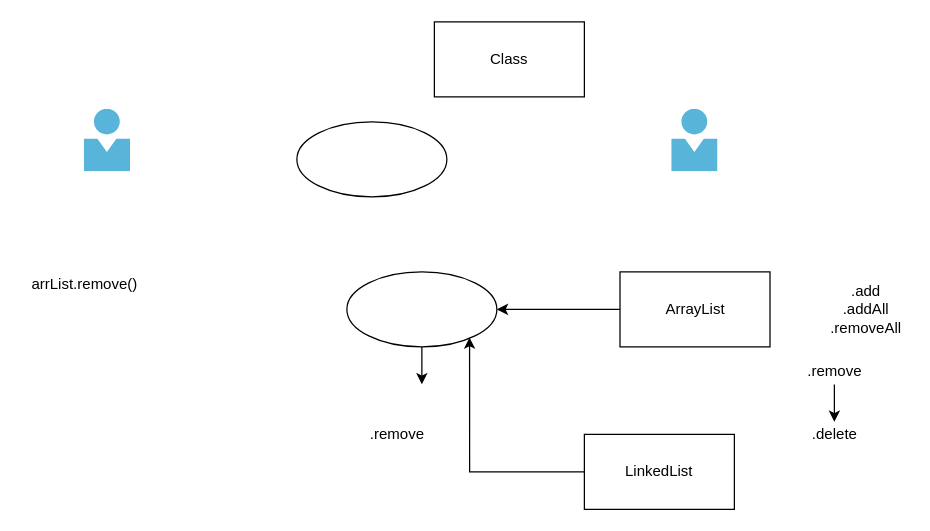
Image size: 930x531. Some labels were removed from this diagram. Here are the shapes that lost their labels. From the top down, the centre of each, then its label:
the point at 371,159: Interface
the point at 421,309: List
